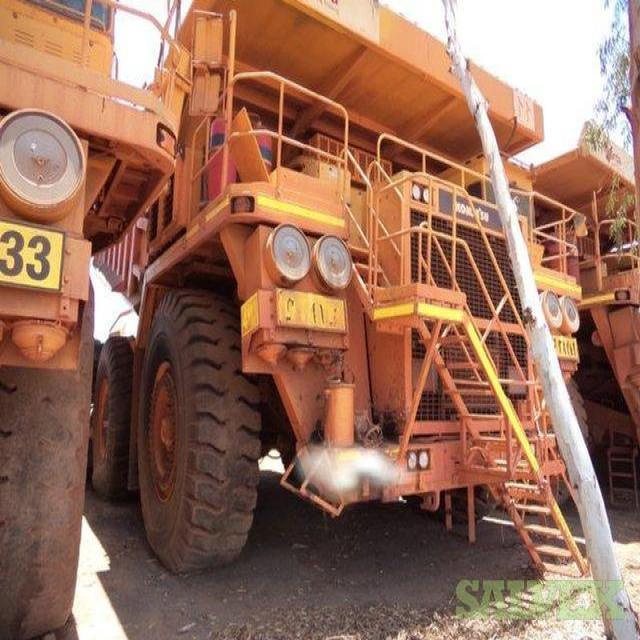dump_truck: (148, 1, 597, 571)
